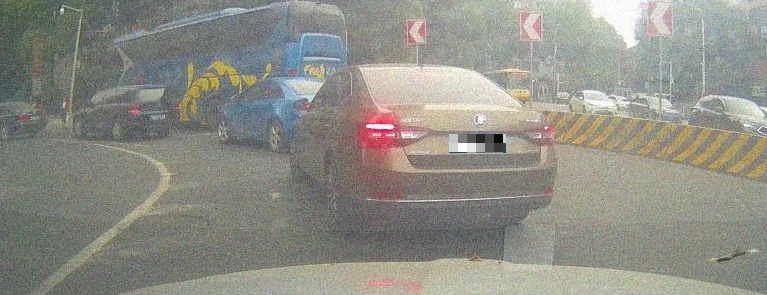L_light: (359, 121, 429, 147), (128, 105, 140, 114)
R_light: (522, 124, 557, 144), (174, 103, 179, 111)
T_light: (410, 69, 438, 73), (150, 89, 160, 91)
day-left: (355, 65, 558, 225)
day-no: (127, 85, 179, 138)
plate_1: (449, 134, 506, 153)
